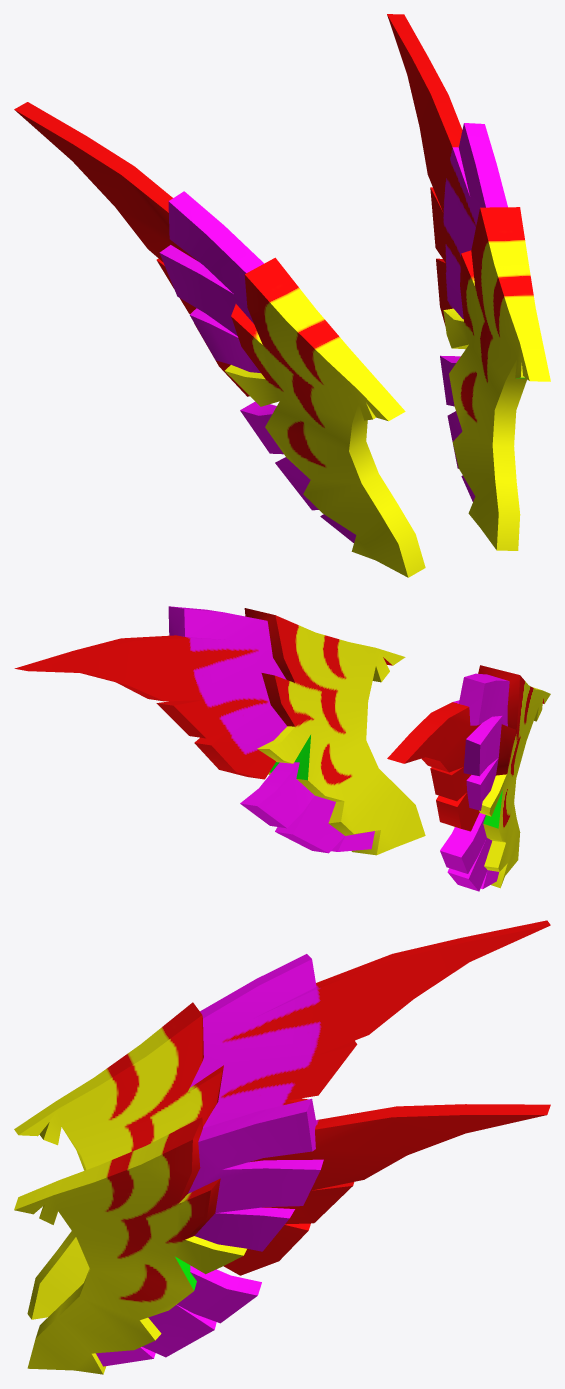
File: osprey.glb
3 renders of one model, top to bottom at view 1: azimuth 30°, elevation 25°; view 2: azimuth 150°, elevation 25°; view 3: azimuth 270°, elevation 25°, orthographic. The views are drawn at different scales.
Visible parts, largest first — view 1: Wings_3; view 2: Wings_3; view 3: Wings_3.
Boxes of the visible parts, x1,y1,x2,y2 form: Wings_3: (14, 14, 550, 577); Wings_3: (14, 606, 550, 891); Wings_3: (14, 920, 550, 1374).
Size of the model in its own units: 1.15 by 0.8973 by 1.34.
Materials: 1 (1 with a texture image).
